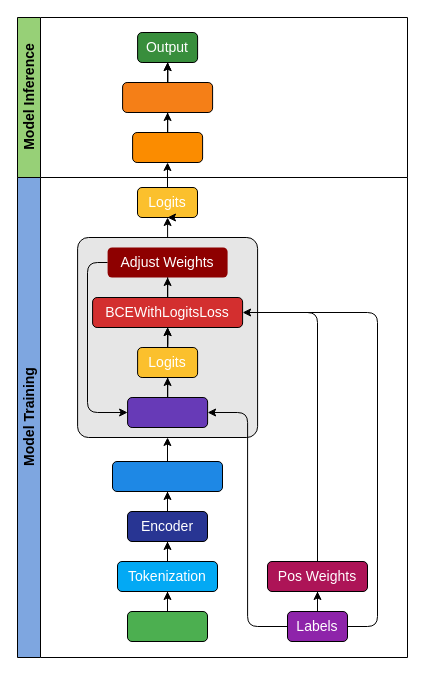
Some shapes in this 425 by 675 pixel diagram are drawn without their labels. The box of each missing label's shape, as (x1, y1, x2, y2) in pixels:
Classifier: (127, 396, 208, 428)
Input Text: (126, 610, 208, 642)
Pooled Output: (112, 460, 222, 492)
Sigmoid: (132, 132, 203, 162)
Threshold: (122, 82, 213, 112)
